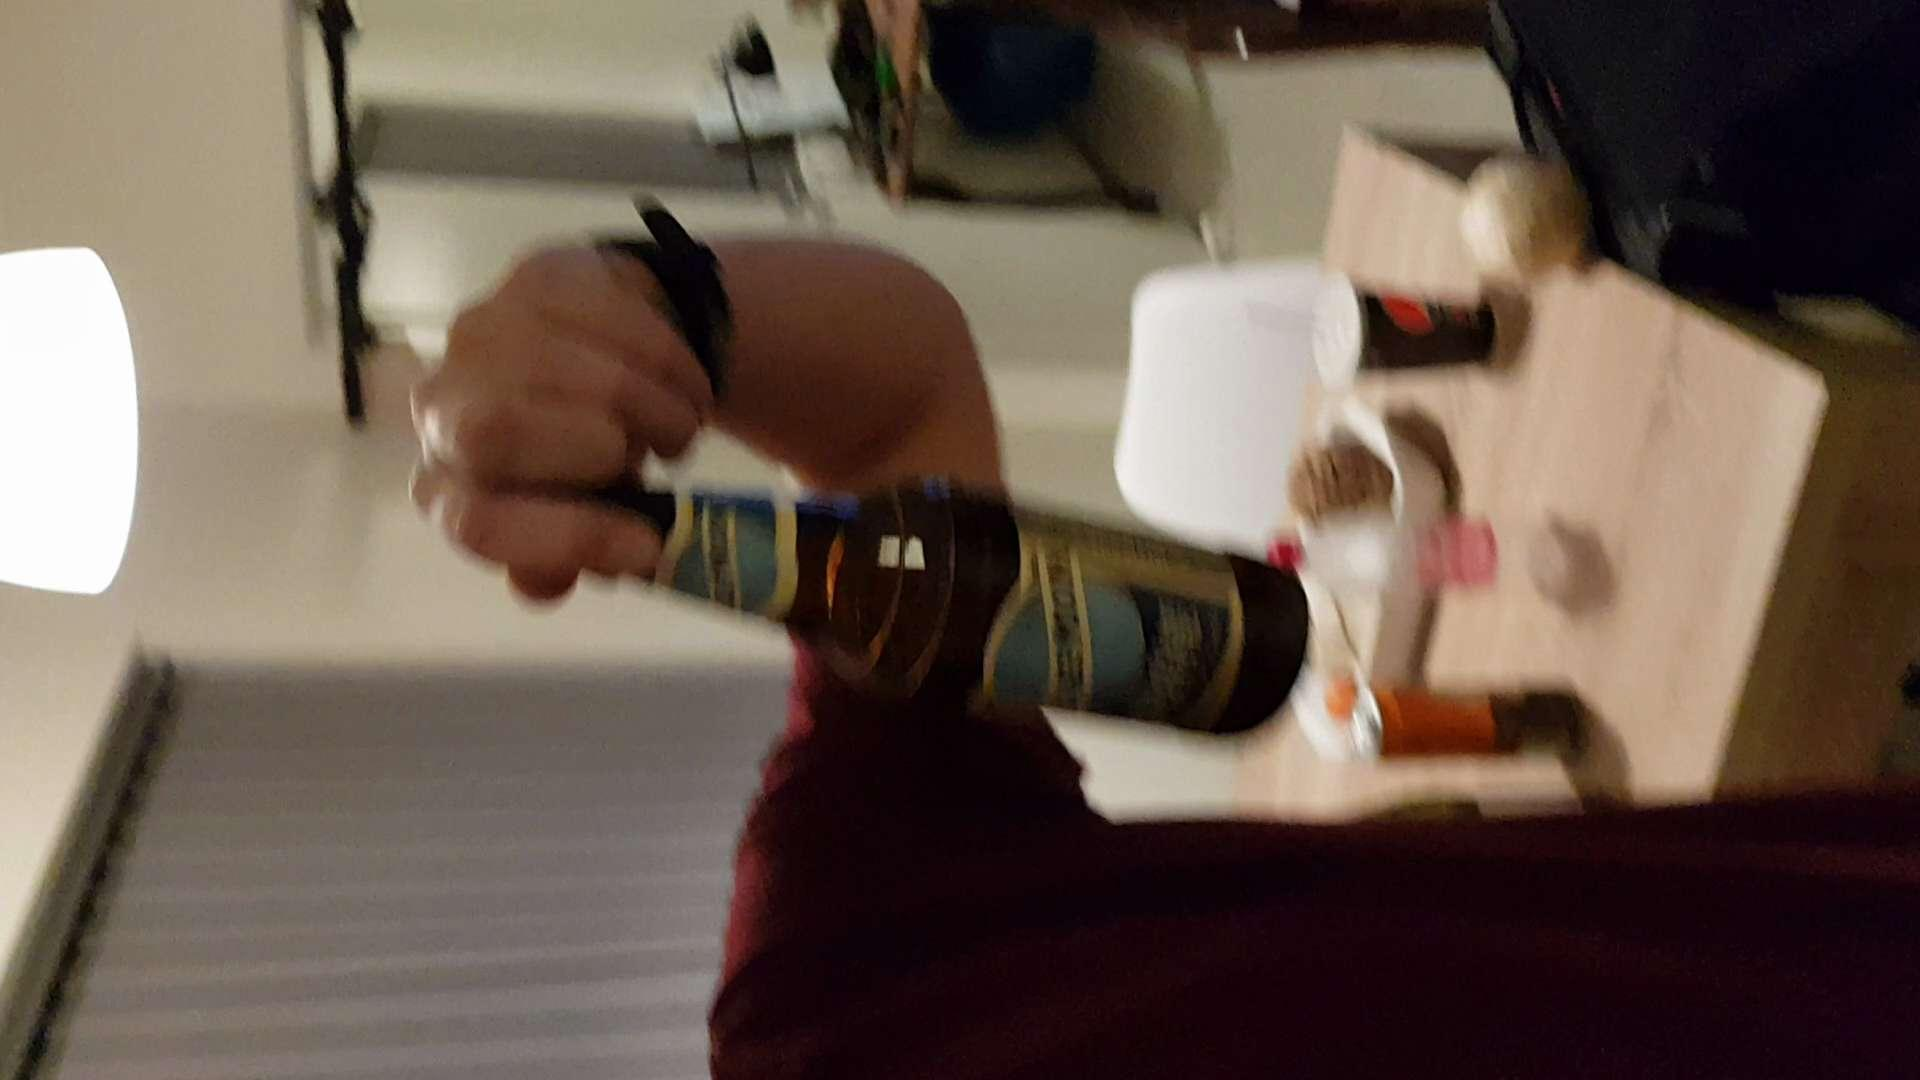Bottle: (487, 465, 1309, 738)
